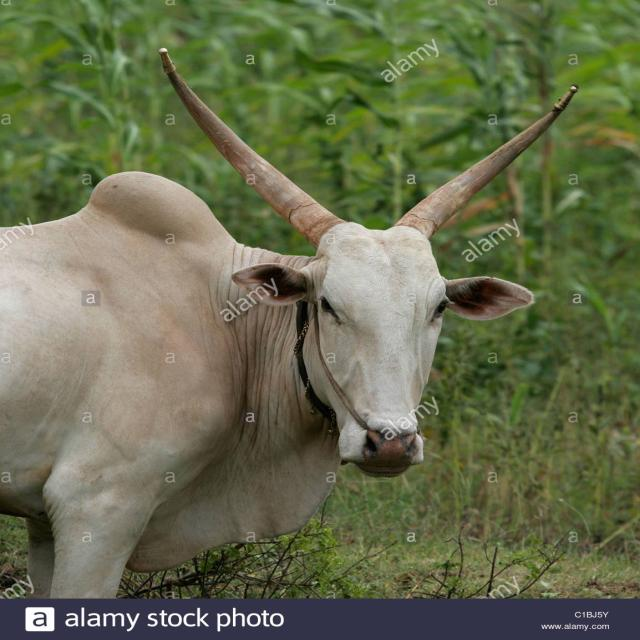Ox: (0, 42, 585, 598)
